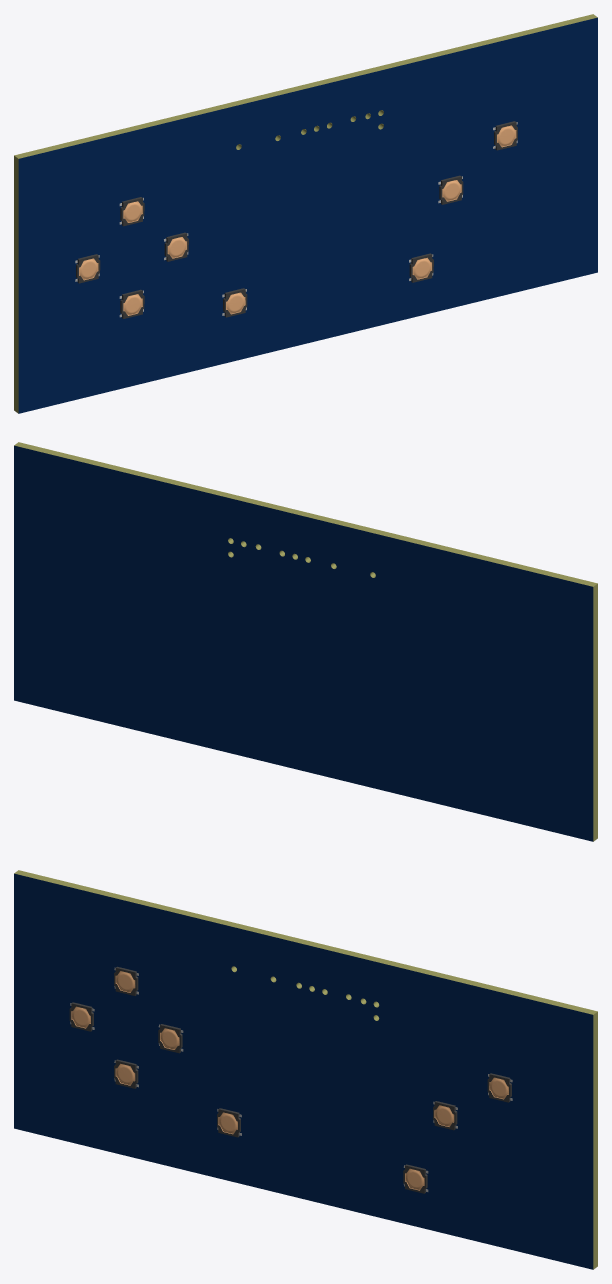
File: 3D_PCB1_2026-07-10.obj
3 renders of one model, top to bottom at view 1: azimuth 30°, elevation 25°; view 2: azimuth 150°, elevation 25°; view 3: azimuth 330°, elevation 25°, orthographic.
Bounding box in the file's own units: 114 × 48.11 × 2.17.
